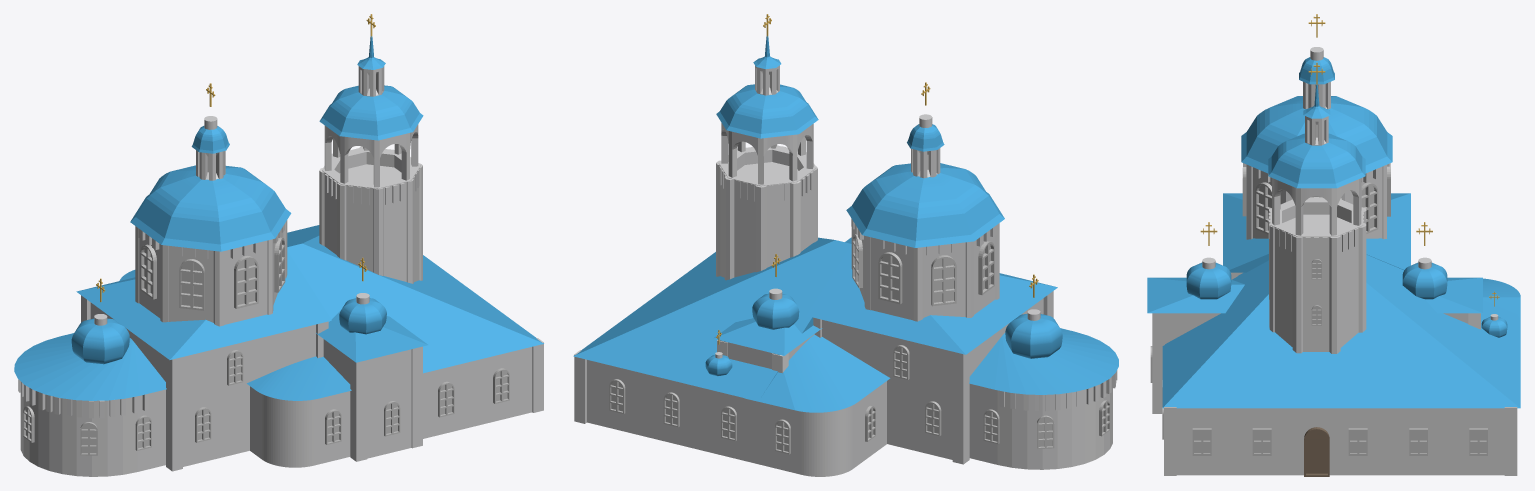
File: spasskiy1.glb
3 renders of one model, left to right at view 1: azimuth 30°, elevation 25°; view 2: azimuth 150°, elevation 25°; view 3: azimuth 270°, elevation 25°, orthographic. The views are drawn at different scales.
Visible parts, largest first — view 1: Cube.105, Cube.008, Cylinder.004, Cube.082, Cube.021, Cylinder.015; view 2: Cube.008, Cube.105, Cylinder.004, Cube.082, Cube.021, Cylinder.015, Cube.061; view 3: Cube.008, Cube.105, Cube.082, Cylinder.004, Cube.021, Cylinder.015, Cube.098, Cube.070, Cube.011.
Boxes of the visible parts, left/top/right/bottom form: Cube.105: left=18, top=295, right=543, bottom=476; Cube.008: left=14, top=225, right=543, bottom=400; Cylinder.004: left=71, top=36, right=423, bottom=364; Cube.082: left=322, top=66, right=422, bottom=283; Cube.021: left=23, top=237, right=509, bottom=455; Cylinder.015: left=135, top=116, right=287, bottom=326; Cube.008: left=573, top=237, right=1118, bottom=412; Cube.105: left=574, top=291, right=1117, bottom=476; Cylinder.004: left=705, top=36, right=1062, bottom=376; Cube.082: left=716, top=65, right=817, bottom=280; Cube.021: left=609, top=234, right=1110, bottom=454; Cylinder.015: left=851, top=114, right=999, bottom=321; Cube.061: left=790, top=180, right=800, bottom=257; Cube.008: left=1147, top=193, right=1520, bottom=408; Cube.105: left=1152, top=272, right=1517, bottom=475; Cube.082: left=1268, top=116, right=1366, bottom=353; Cylinder.004: left=1186, top=57, right=1507, bottom=337; Cube.021: left=1150, top=163, right=1487, bottom=455; Cylinder.015: left=1243, top=47, right=1389, bottom=239; Cube.098: left=1304, top=427, right=1329, bottom=476; Cube.070: left=1275, top=408, right=1343, bottom=424; Cube.011: left=1200, top=14, right=1499, bottom=306.
Size of the model in its own units: 4.12 by 3.21 by 2.97.
